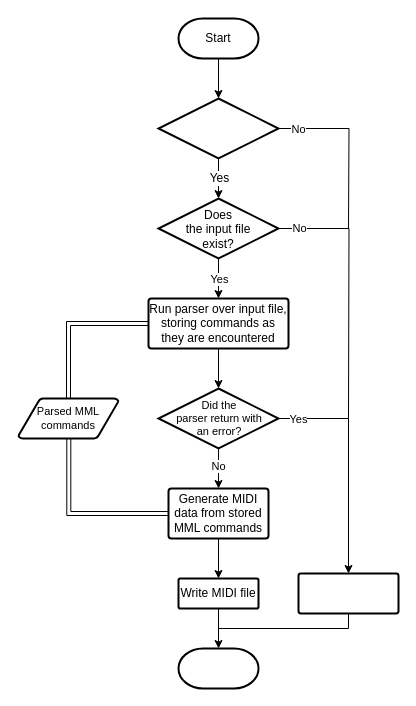
Some shapes in this 416 by 706 pixel diagram are drawn without their labels. The shapes that lost their labels are listed below. From the top down, each one's centre as x and y in pixels, then its label:
At (218,128): "Call of correct form?".
At (348,593): "Print appropriate error message".
At (218,668): "Stop".
